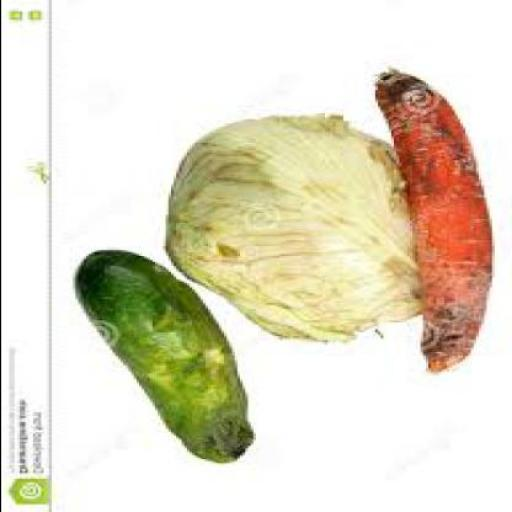biodegradable: (168, 115, 424, 344), (77, 252, 254, 466), (374, 72, 496, 376)
